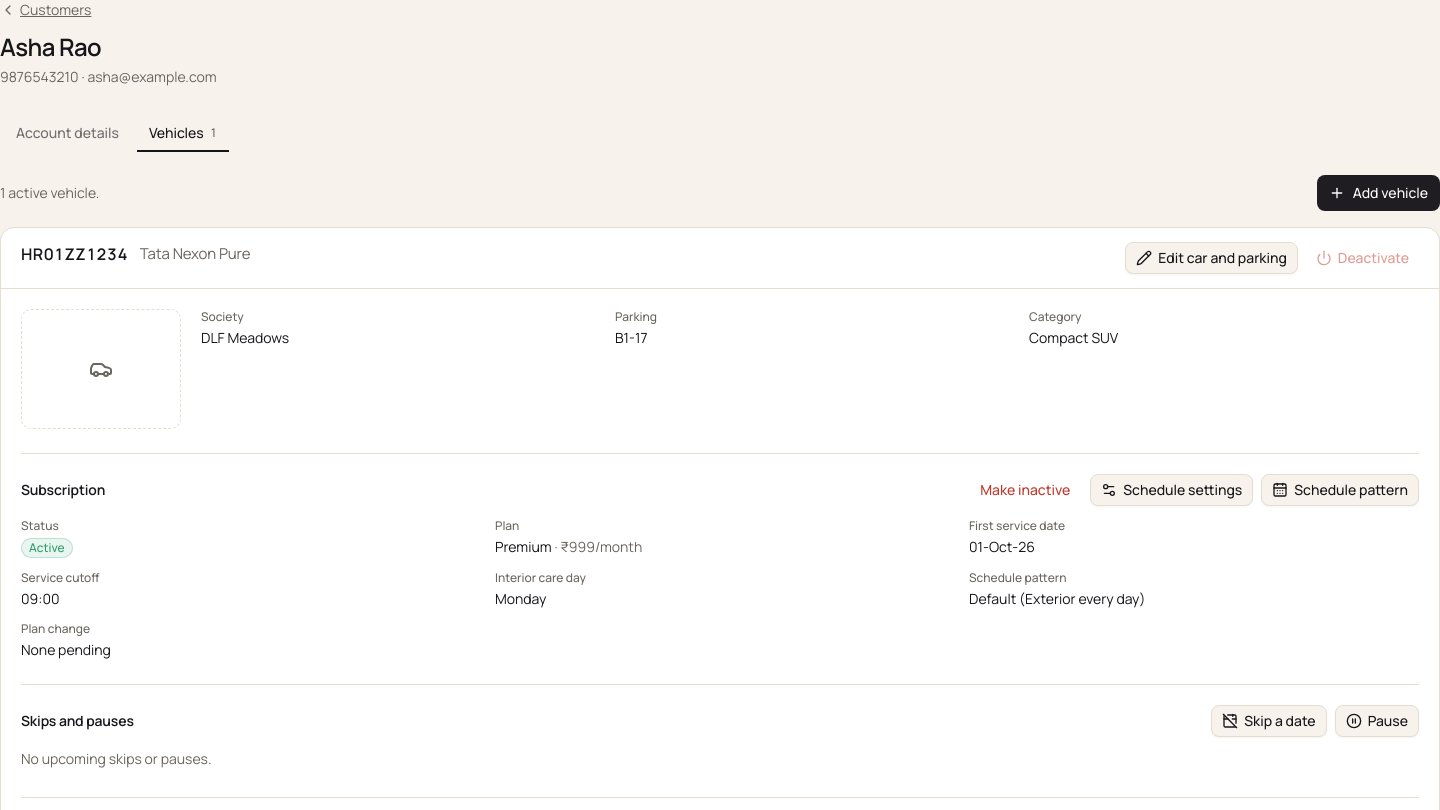
Test case: has no RC document anywhere on the vehicle
Click the button "Edit car and parking" at (1212,258), box x1=1125 y1=242 x2=1298 y2=274
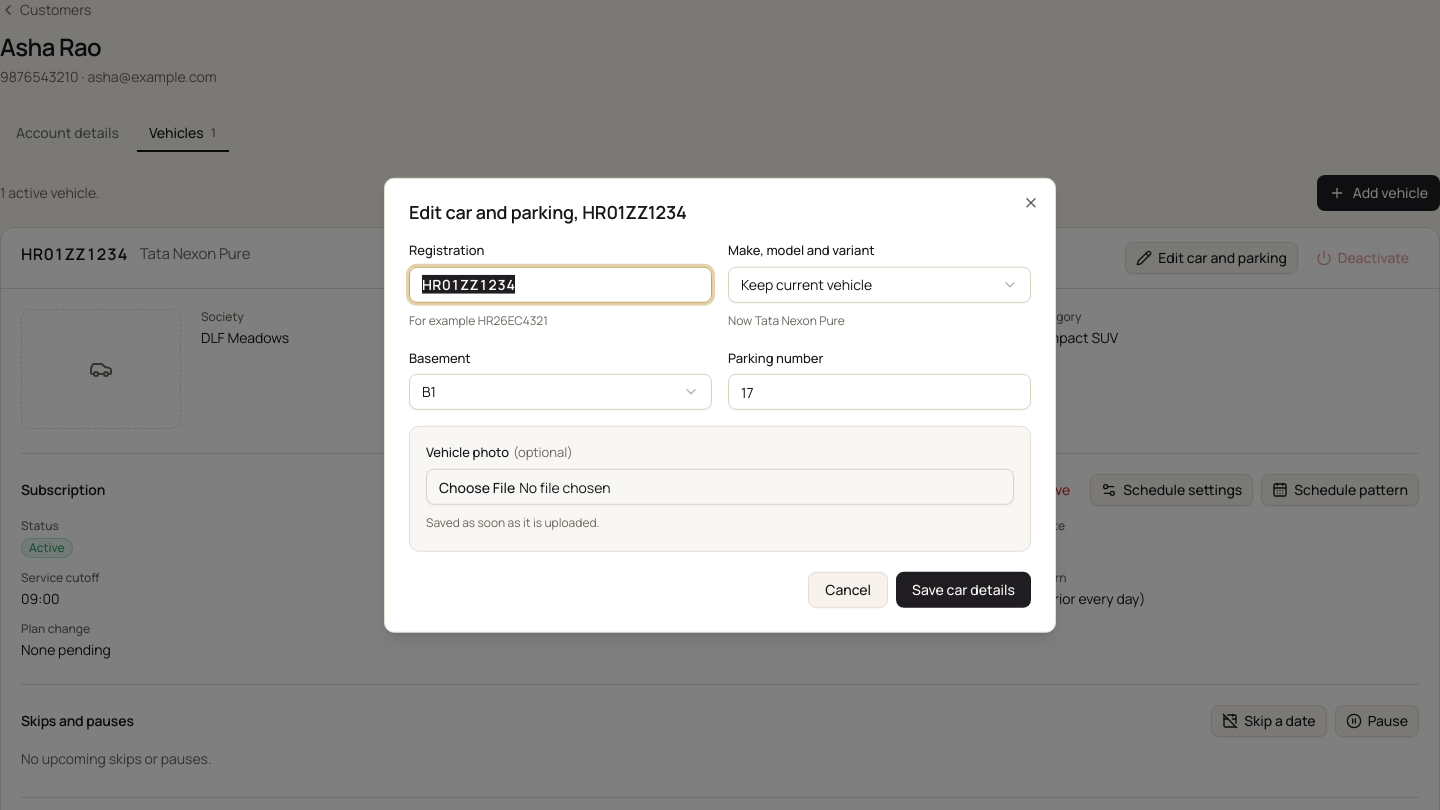
Now the file field labelled "Vehicle photo" is shown, box x1=426 y1=468 x2=1014 y2=504
